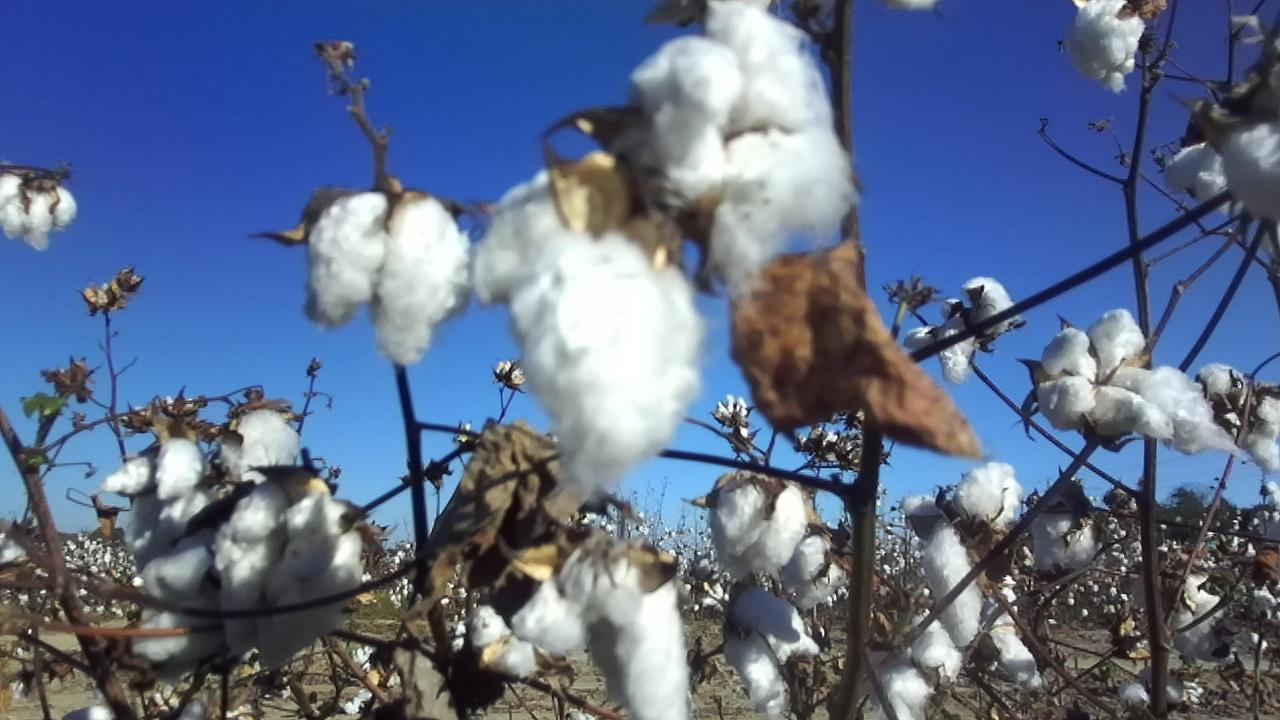cotton_ready: (466, 171, 707, 497), (630, 0, 856, 299), (302, 193, 473, 369), (1037, 307, 1240, 455), (212, 483, 364, 666), (555, 547, 690, 720), (903, 460, 1022, 647), (725, 580, 820, 720), (133, 529, 219, 672), (467, 583, 582, 684), (708, 467, 807, 579), (105, 437, 210, 538), (862, 619, 961, 720), (1200, 363, 1280, 470), (977, 575, 1050, 689), (1162, 569, 1245, 658), (1069, 0, 1146, 93), (217, 403, 303, 484), (0, 172, 79, 255), (902, 297, 976, 383), (1225, 117, 1280, 221), (1031, 509, 1112, 573), (785, 530, 850, 608), (1159, 143, 1229, 201), (1117, 670, 1186, 717), (963, 277, 1016, 335), (888, 0, 937, 15)
